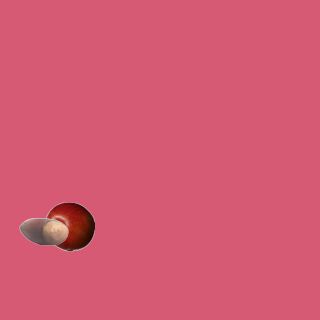Apple Braeburn: (44, 201, 94, 251)
Hazelnut: (18, 206, 68, 256)
